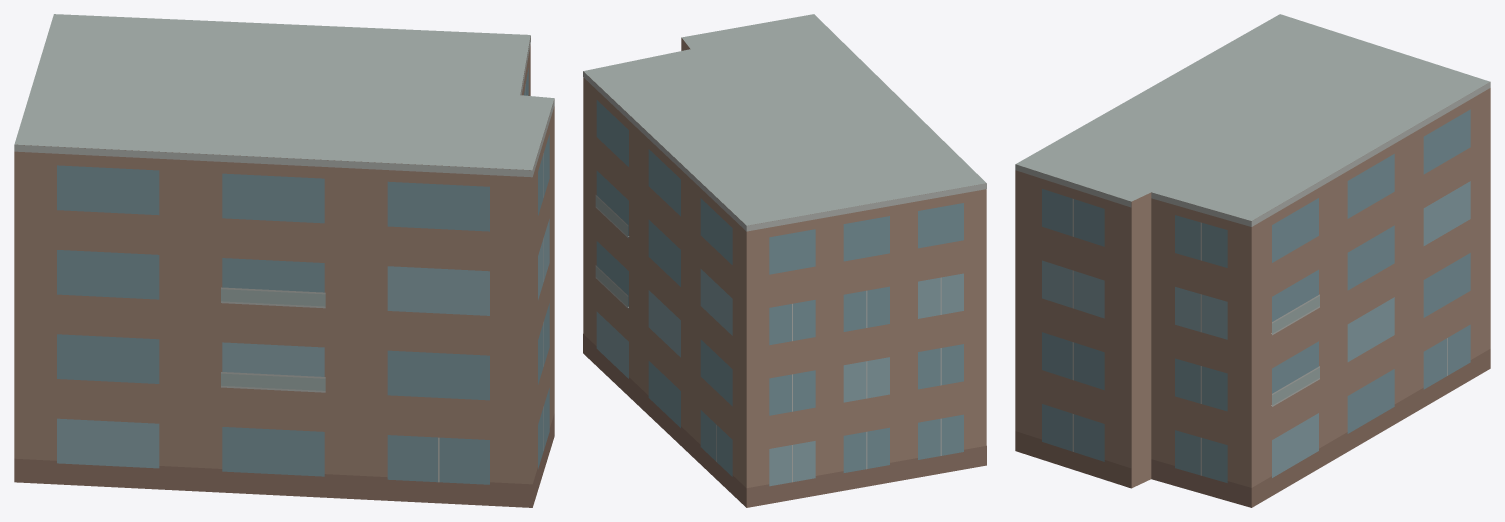
Rendered from survey-upis-32641710.glb.
3 renders of one model, left to right at view 1: azimuth 30°, elevation 25°; view 2: azimuth 150°, elevation 25°; view 3: azimuth 270°, elevation 25°, orthographic. The views are drawn at different scales.
Parts seen in each view (by area): view 1: survey-upis-32641710.tmp; view 2: survey-upis-32641710.tmp; view 3: survey-upis-32641710.tmp.
Part boxes in pixels (x1=…): survey-upis-32641710.tmp: x1=14, y1=14, x2=554, y2=507; survey-upis-32641710.tmp: x1=583, y1=14, x2=986, y2=507; survey-upis-32641710.tmp: x1=1015, y1=14, x2=1490, y2=507.
Size of the model in its own units: 18.13 by 11.7 by 17.57.
